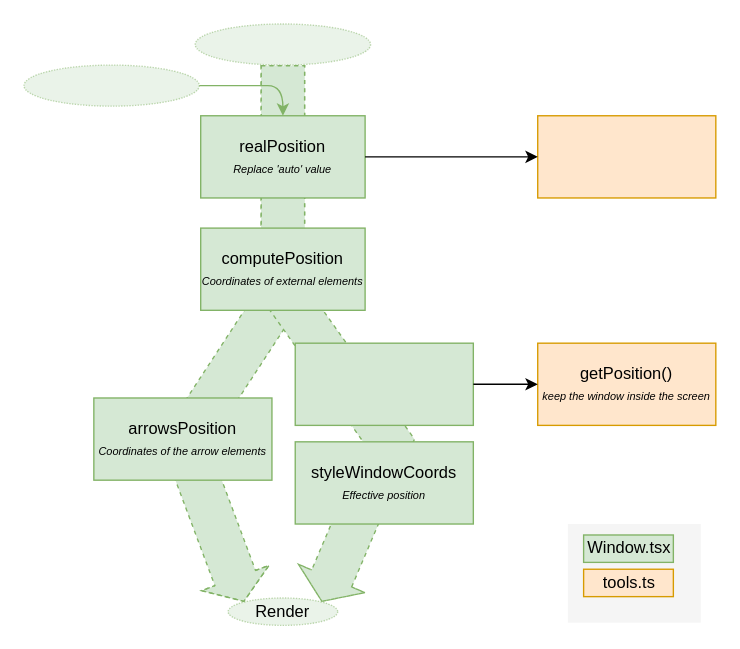
This 740x649 diagram has some shape labels left out. Each missing label, with the centre of its shape:
elementsBox: point (282, 44)
getAutoPlacement() Replace 'auto' with the best position: point (626, 156)
position: point (111, 85)
windowPlacement Coordinates of the window element: point (383, 383)
